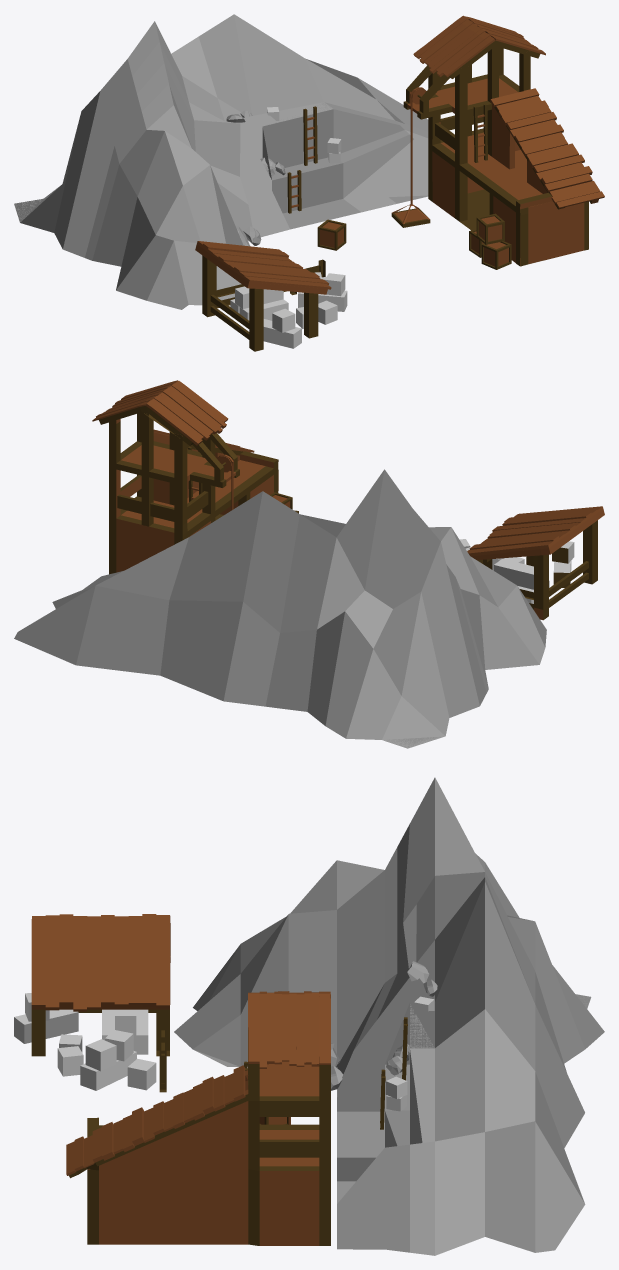
Rendered from quarry.fbx.
3 renders of one model, top to bottom at view 1: azimuth 30°, elevation 25°; view 2: azimuth 150°, elevation 25°; view 3: azimuth 270°, elevation 25°, orthographic. The views are drawn at different scales.
Visible parts, largest first — view 1: Quarry; view 2: Quarry; view 3: Quarry.
Boxes of the visible parts, x1,y1,x2,y2 form: Quarry: [14, 14, 604, 351]; Quarry: [14, 380, 604, 748]; Quarry: [14, 777, 604, 1255].
Bounding box in the file's own units: 1544 × 734 × 1423.
